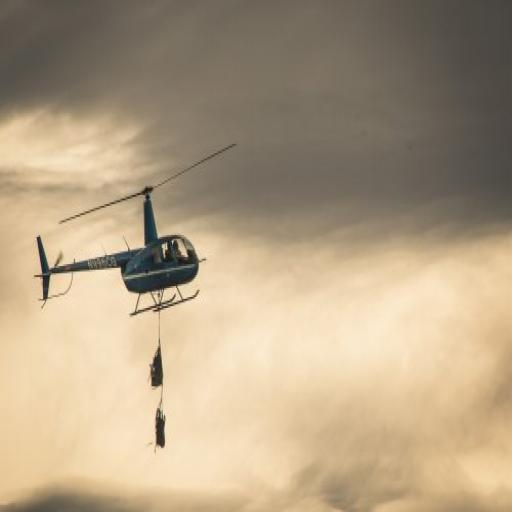helicopter: (36, 187, 216, 312)
